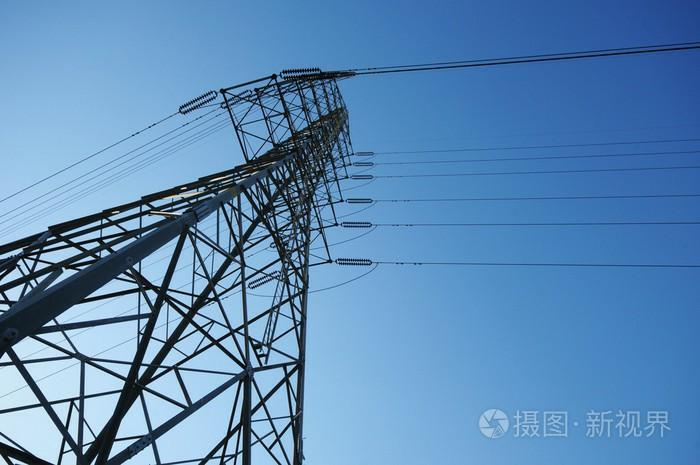power_tower: (11, 61, 371, 465)
